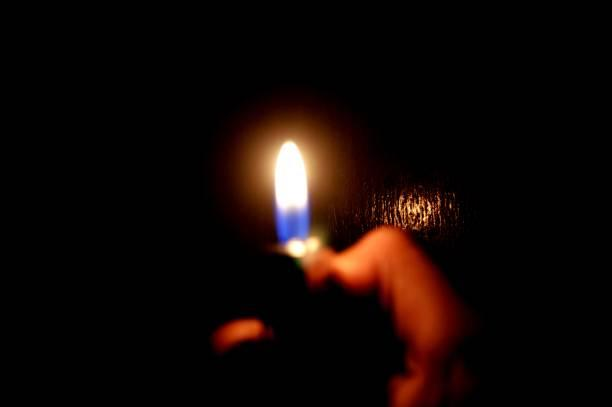Fire: (272, 138, 317, 246)
